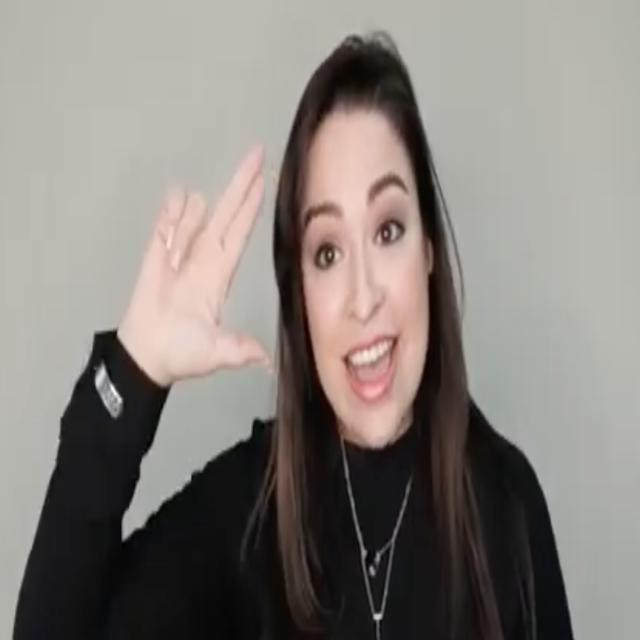hola: (124, 133, 274, 403)
